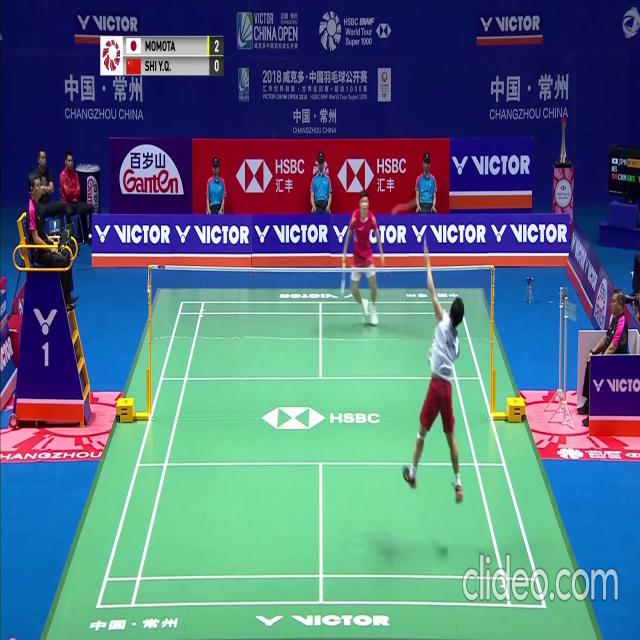Shuttlecock: (390, 209, 394, 216)
